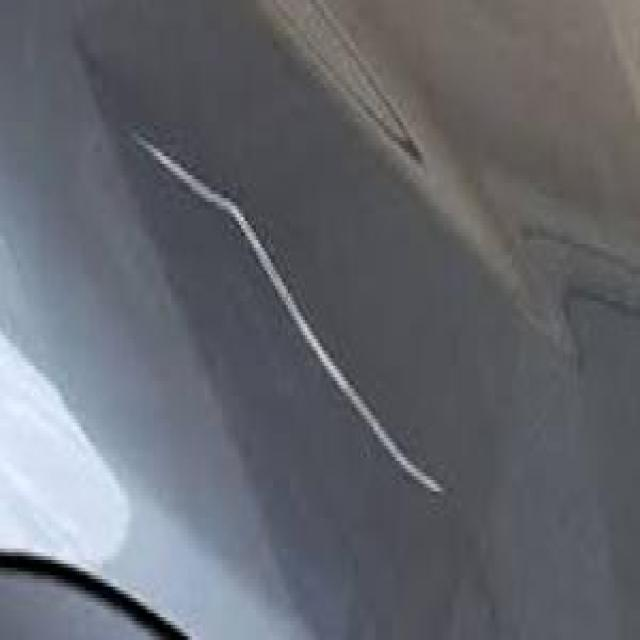scratch: (120, 114, 450, 507)
